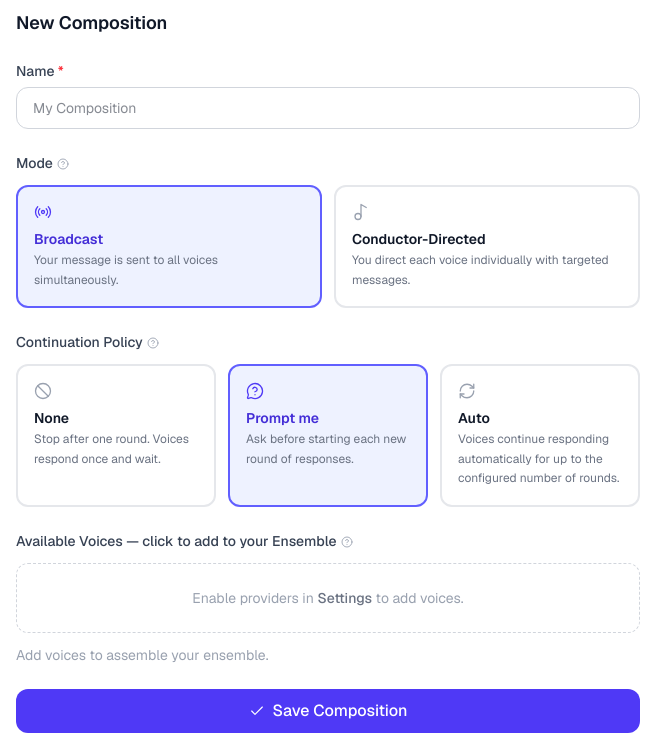
Test: CompositionBuilder › clicking "Conductor-Directed" hides continuation policy
Click the button "Conductor-Directed".
click(487, 246)  # box x1=334 y1=185 x2=640 y2=308
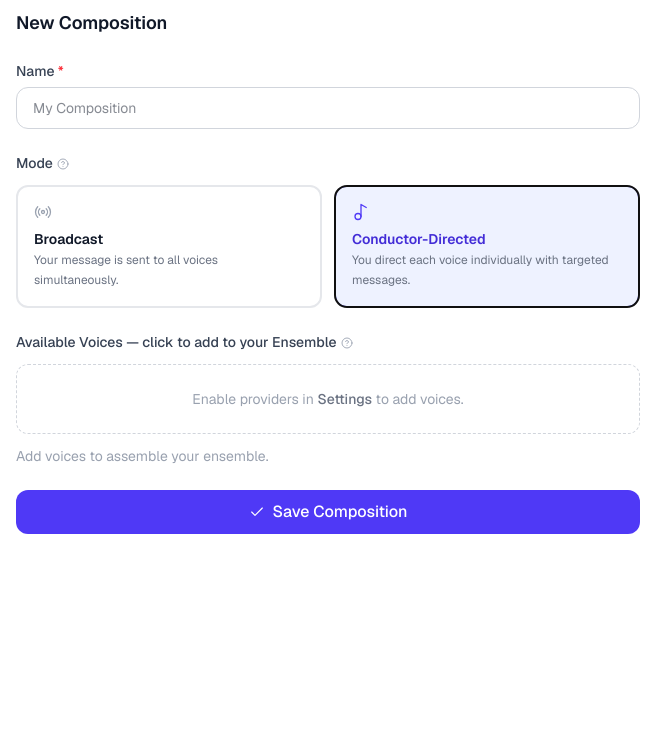
Expected: the text "Continuation Policy" is gone
